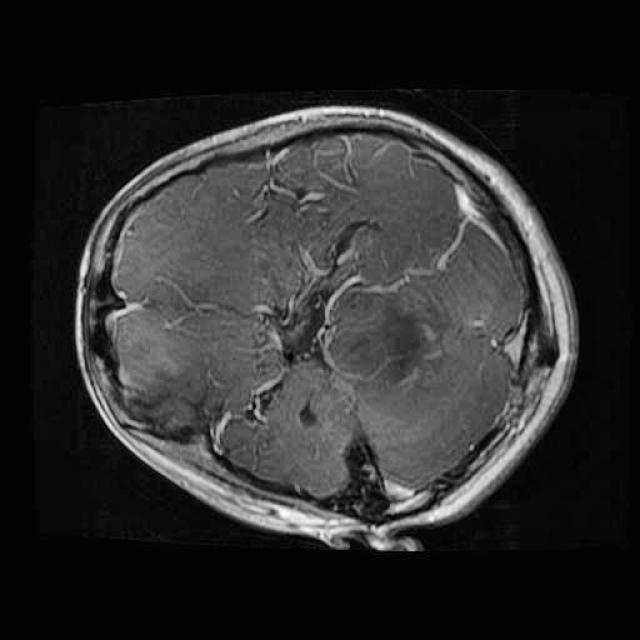Non-Tumor: (123, 342, 245, 462)
